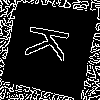K: (24, 22, 80, 65)
